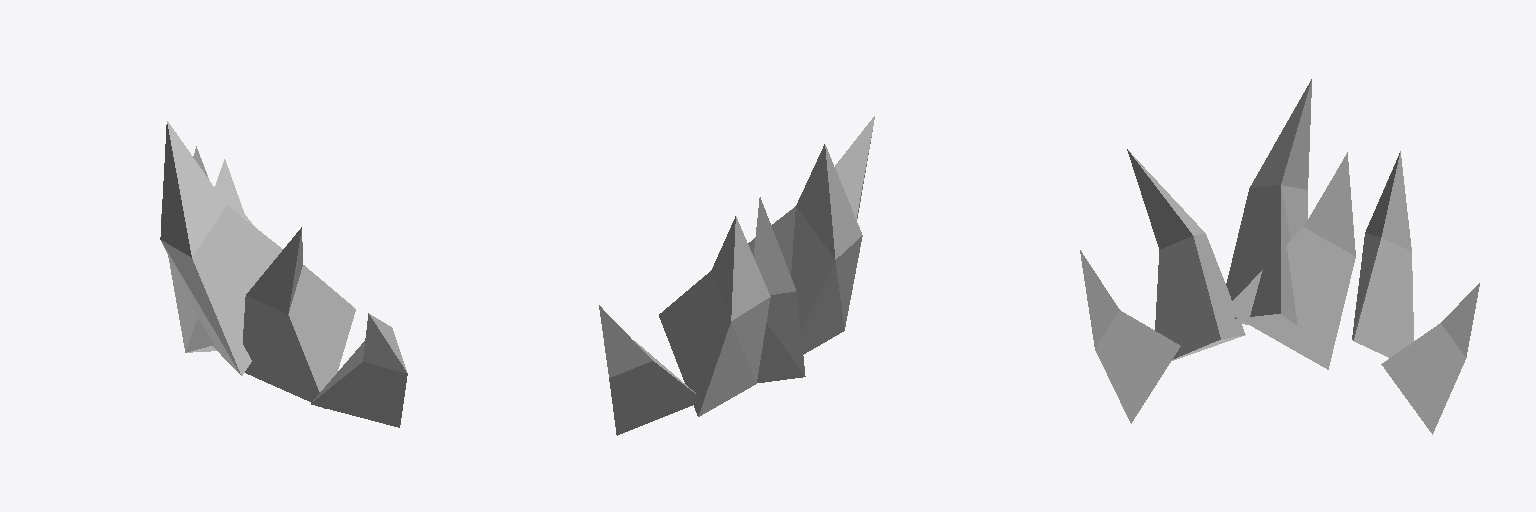
Rendered from CrazyHair.obj.
3 views of the same model, side by side, from view 1: azimuth 30°, elevation 25°; view 2: azimuth 150°, elevation 25°; view 3: azimuth 270°, elevation 25° (orthographic).
Parts seen in each view (by area): view 1: Object005; view 2: Object005; view 3: Object005.
Part boxes in pixels (left/top/right/bottom): Object005: left=160, top=121, right=407, bottom=427; Object005: left=599, top=116, right=874, bottom=435; Object005: left=1080, top=79, right=1479, bottom=434.
Size of the model in its own units: 8.88 by 14.8 by 18.88.